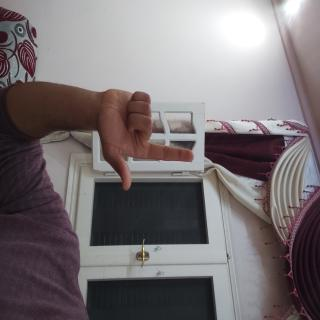LAAM: (62, 166, 147, 318)
